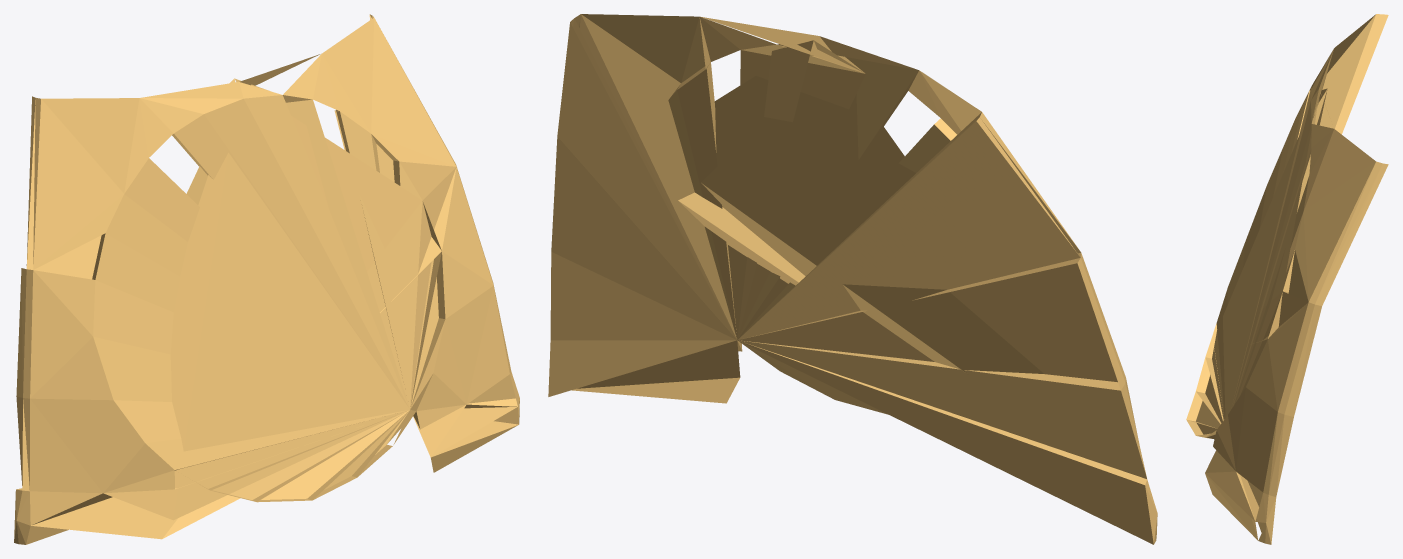
File: S.S._Dolphin_part.002.obj
3 views of the same model, side by side, from view 1: azimuth 30°, elevation 25°; view 2: azimuth 150°, elevation 25°; view 3: azimuth 270°, elevation 25° (orthographic). The views are drawn at different scales.
Parts seen in each view (by area): view 1: S.S._Dolphin_part.002; view 2: S.S._Dolphin_part.002; view 3: S.S._Dolphin_part.002.
Part boxes in pixels (x1,y1,x2,y2): S.S._Dolphin_part.002: [14, 14, 519, 544]; S.S._Dolphin_part.002: [548, 14, 1157, 544]; S.S._Dolphin_part.002: [1186, 14, 1388, 544].
Size of the model in its own units: 3.77 by 2.73 by 1.45.
